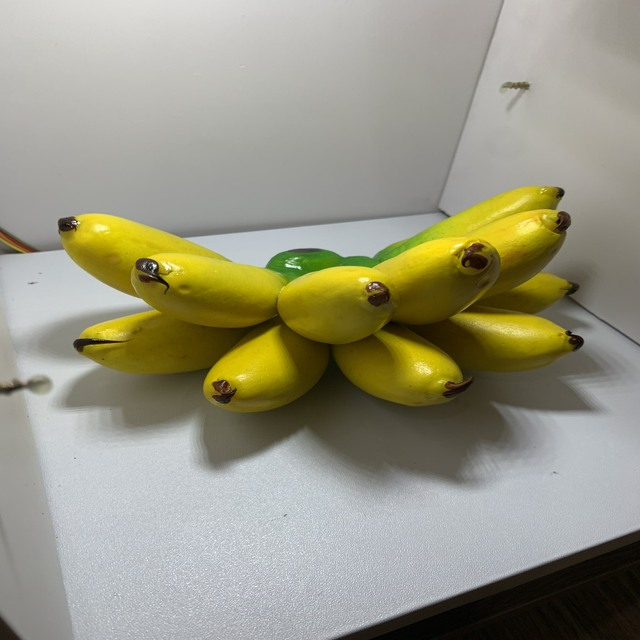Chuoi: (53, 157, 592, 451)
